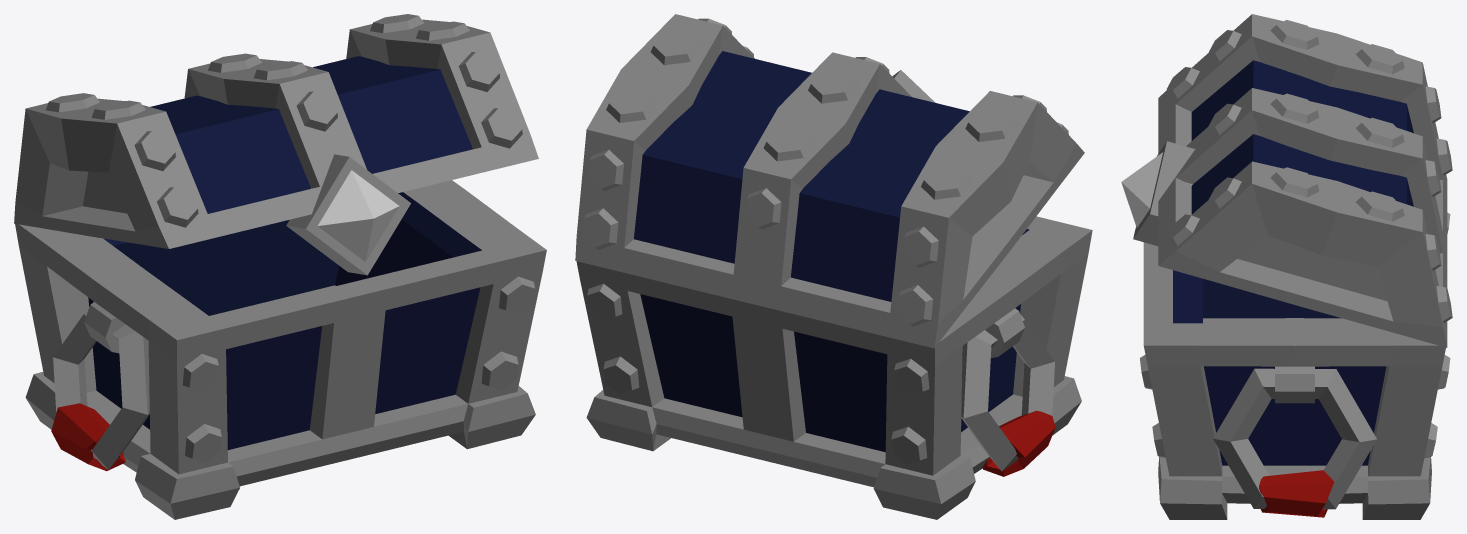
Rendered from r_chest_silver.obj.
3 views of the same model, side by side, from view 1: azimuth 30°, elevation 25°; view 2: azimuth 150°, elevation 25°; view 3: azimuth 270°, elevation 25° (orthographic). The views are drawn at different scales.
Parts seen in each view (by area): view 1: chest_silver_bottom_Cube.046, chest_silver_top_Cube.048; view 2: chest_silver_top_Cube.048, chest_silver_bottom_Cube.046; view 3: chest_silver_top_Cube.048, chest_silver_bottom_Cube.046.
Part boxes in pixels (x1,y1,x2,y2): chest_silver_bottom_Cube.046: [15, 180, 546, 519]; chest_silver_top_Cube.048: [14, 14, 538, 275]; chest_silver_top_Cube.048: [575, 14, 1084, 348]; chest_silver_bottom_Cube.046: [576, 216, 1092, 519]; chest_silver_top_Cube.048: [1121, 14, 1452, 347]; chest_silver_bottom_Cube.046: [1140, 212, 1450, 519].
Size of the model in its own units: 1.15 by 0.9474 by 0.8309.
